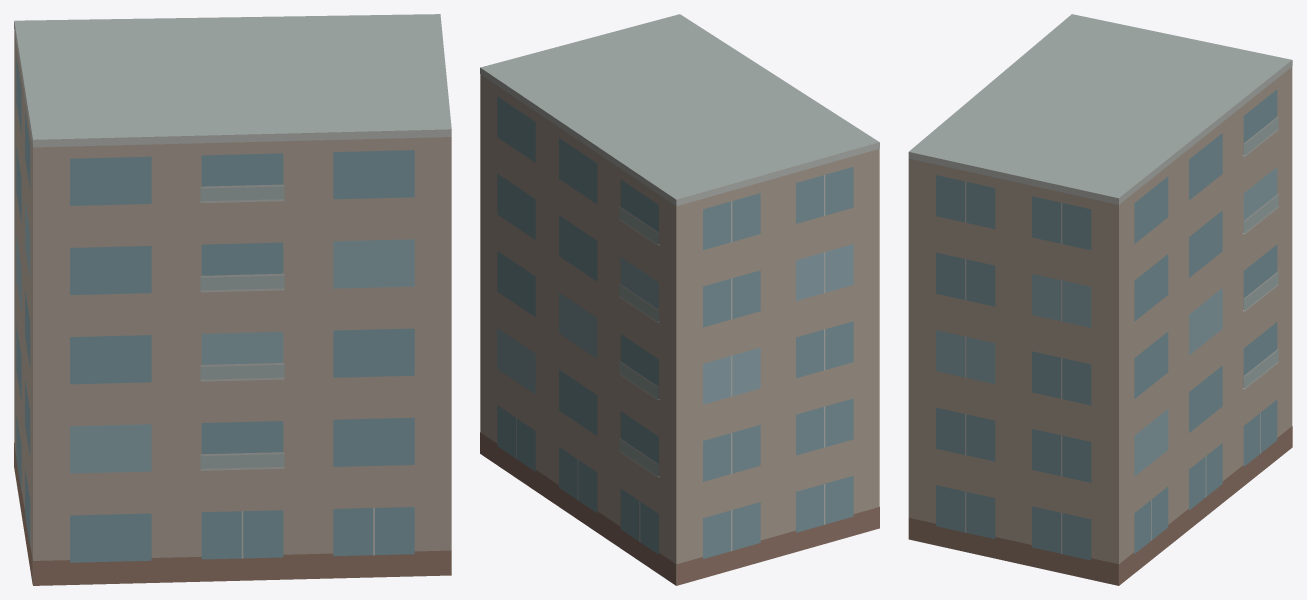
File: survey-upis-32886040.glb
The picture shows the model from 3 angles, left to right: view 1: azimuth 30°, elevation 25°; view 2: azimuth 150°, elevation 25°; view 3: azimuth 270°, elevation 25°; orthographic projection. The views are drawn at different scales.
Parts seen in each view (by area): view 1: survey-upis-32886040.tmp; view 2: survey-upis-32886040.tmp; view 3: survey-upis-32886040.tmp.
Part boxes in pixels (left/top/right/bottom): survey-upis-32886040.tmp: left=14, top=14, right=451, bottom=585; survey-upis-32886040.tmp: left=480, top=14, right=879, bottom=585; survey-upis-32886040.tmp: left=908, top=14, right=1292, bottom=585.
Bounding box in the file's own units: 14.59 × 14.3 × 12.84.
